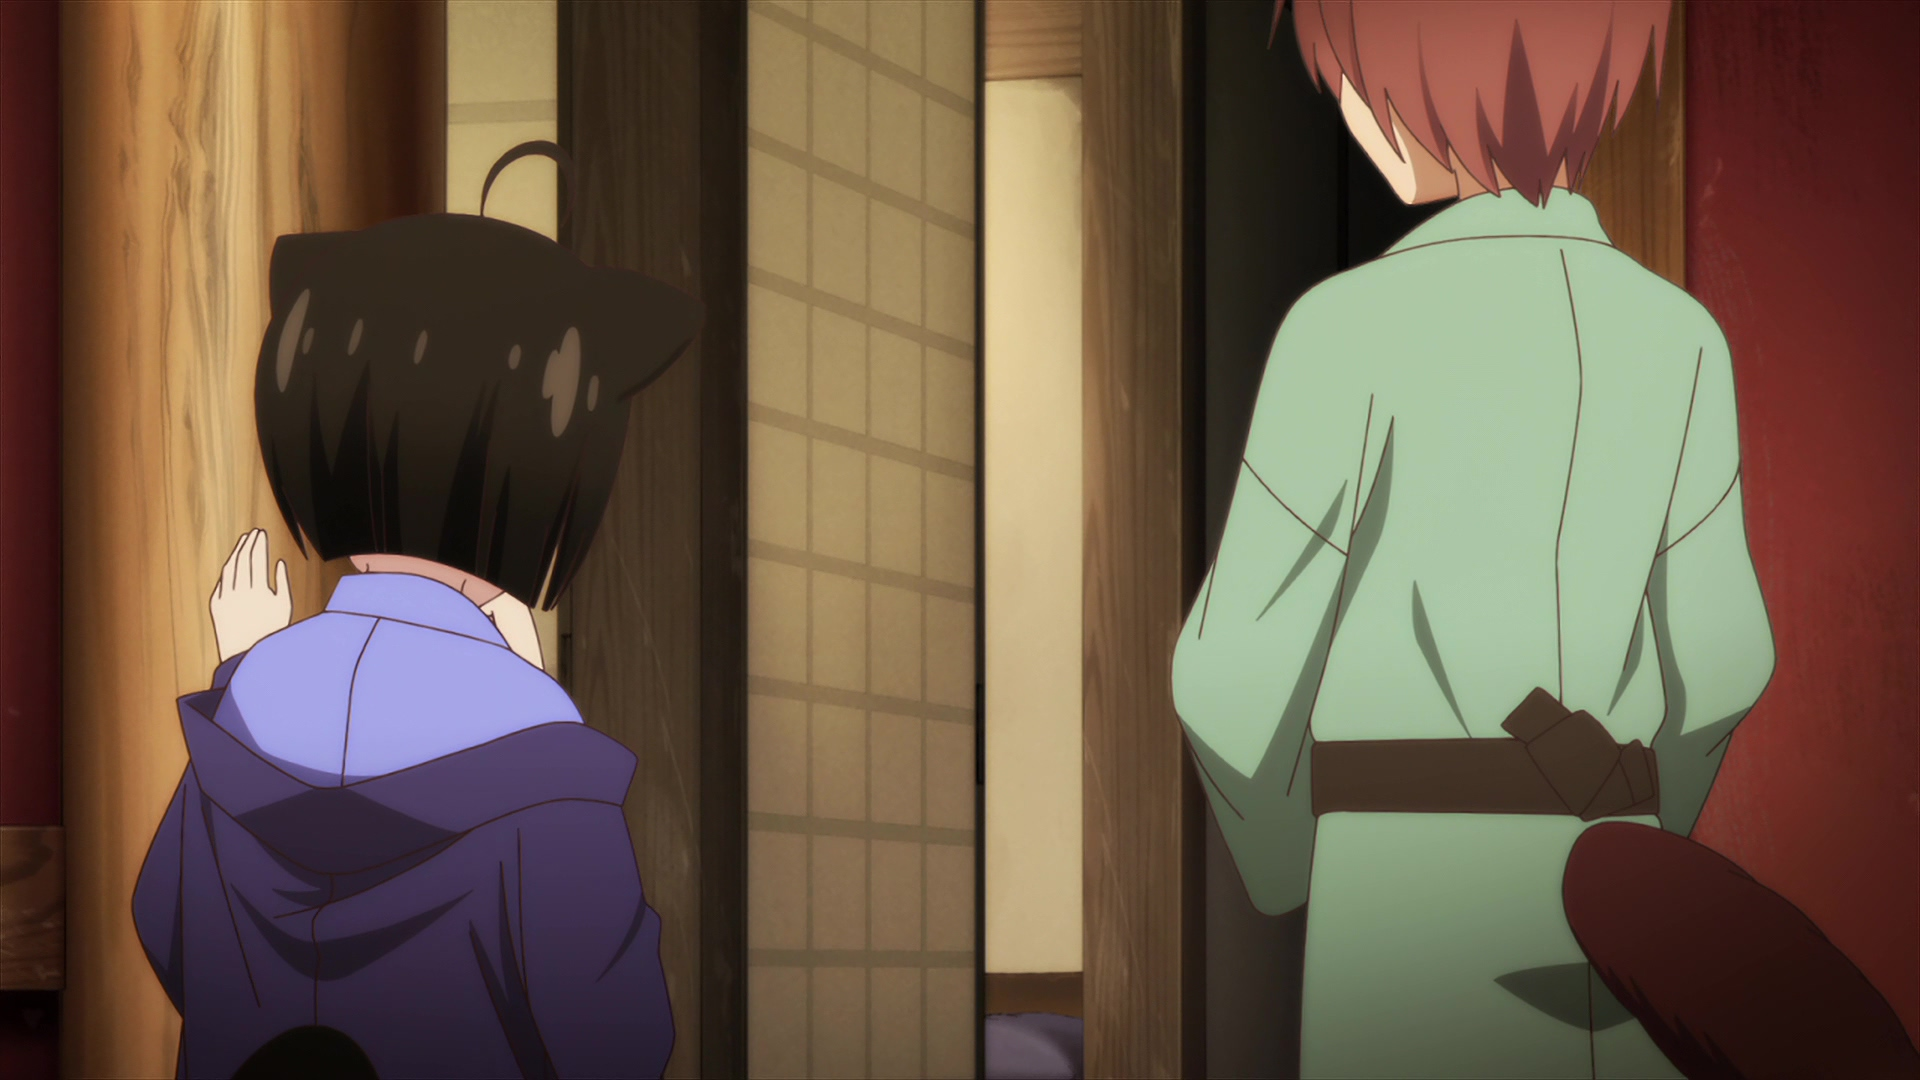其他: (132, 144, 700, 1080)
枣: (1170, 1, 1920, 1080)
